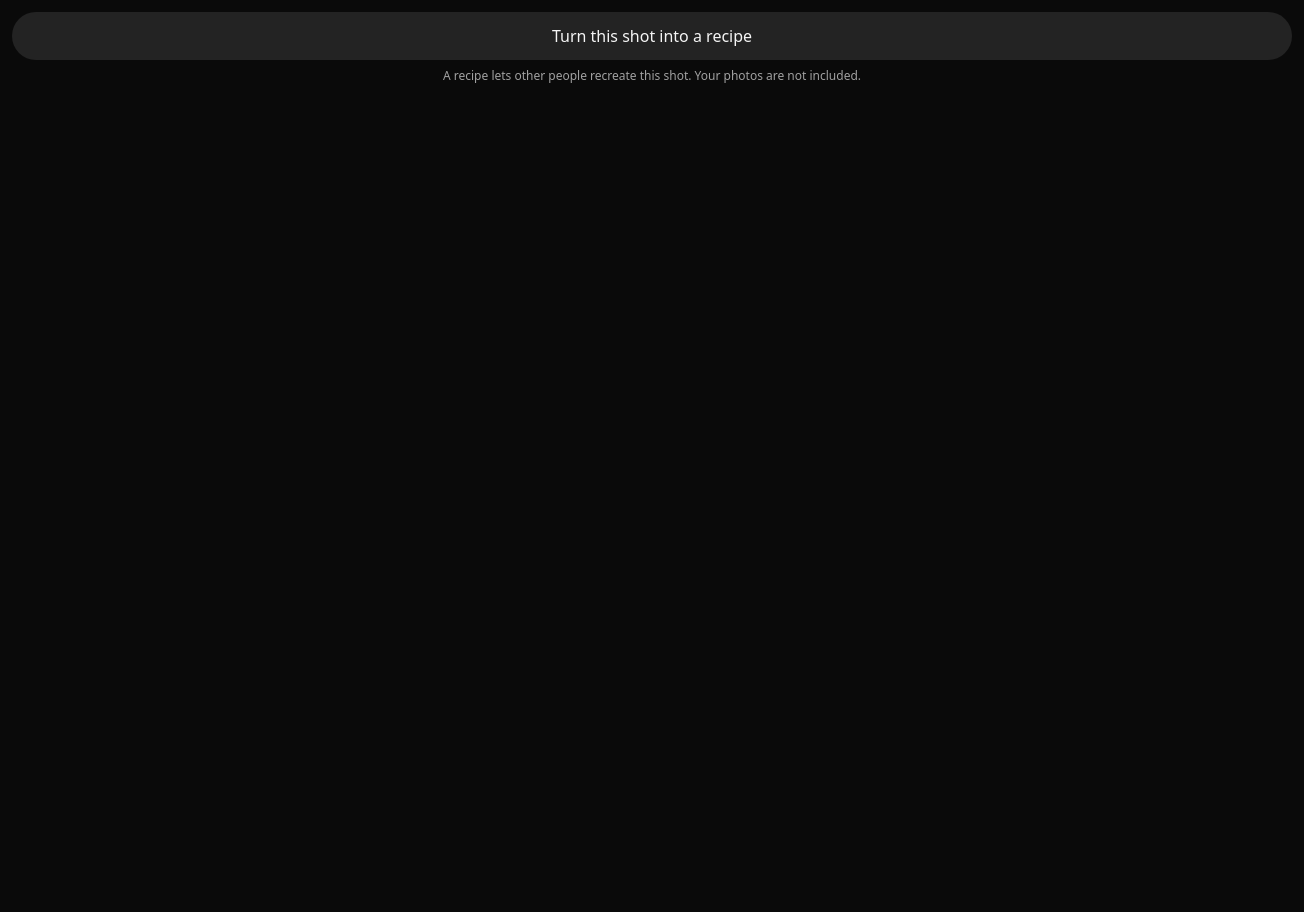
Test case: RecipePublisher › shows a preview and sends nothing until Publish is pressed
Click the button "Turn this shot into a recipe" at (652, 36), box [12,12,1292,60]
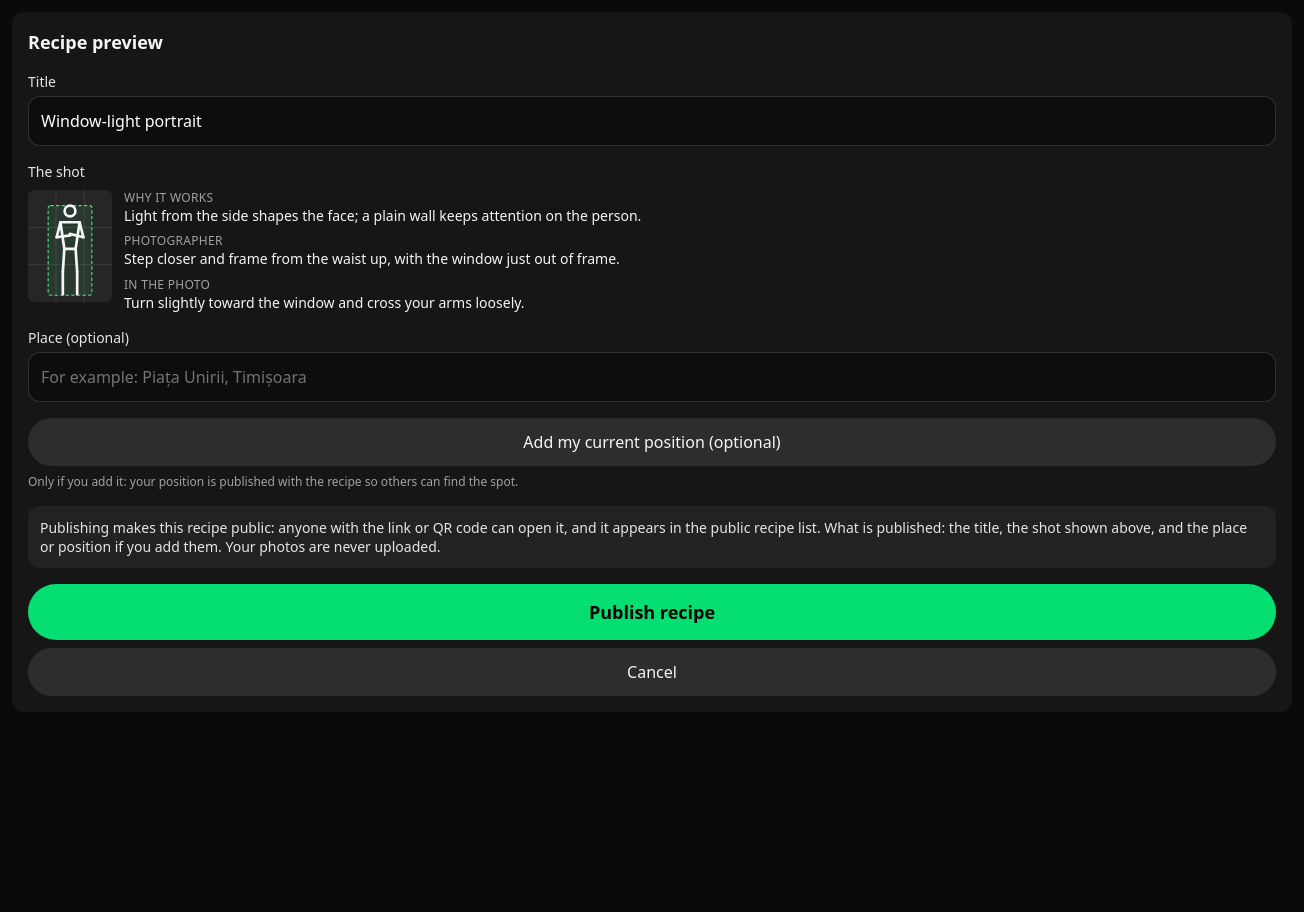
Check: the heading "Recipe preview" is shown, box [28,30,163,54]
Check: the field labelled "Title" holds "Window-light portrait", box [28,96,1276,146]
Check: the text "Step closer and frame from the waist up, with the window just out of frame." is shown, box [124,249,641,269]
